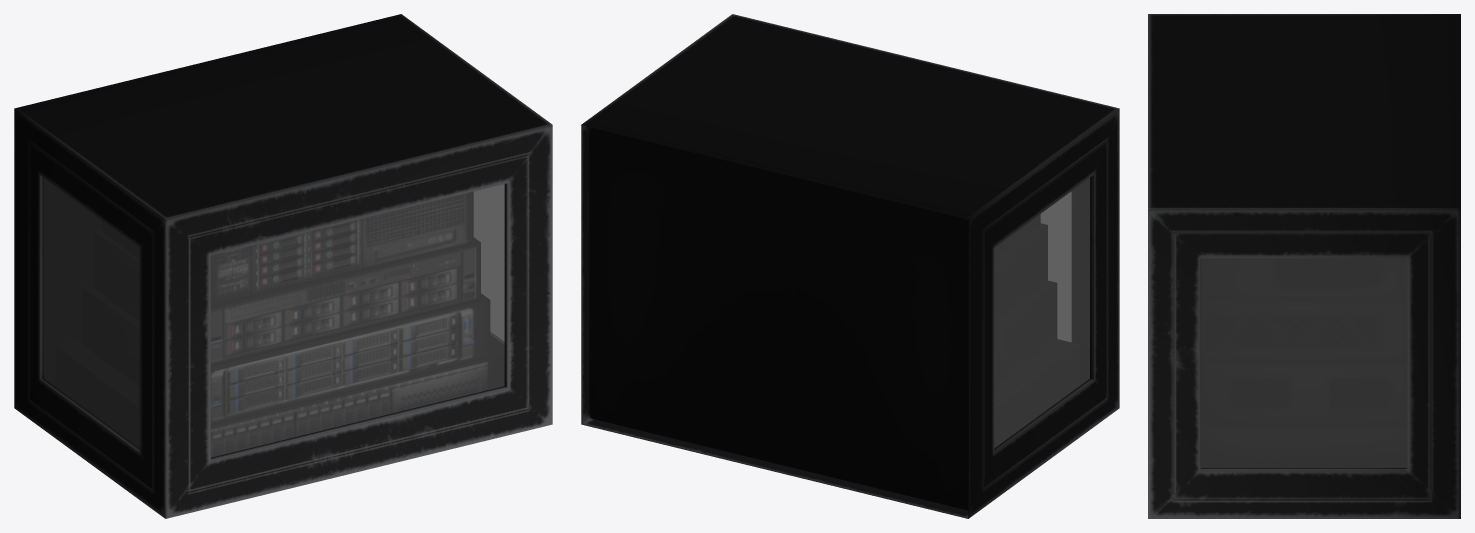
File: Server.fbx
3 views of the same model, side by side, from view 1: azimuth 30°, elevation 25°; view 2: azimuth 150°, elevation 25°; view 3: azimuth 270°, elevation 25° (orthographic). The views are drawn at different scales.
Visible parts, largest first — view 1: Server; view 2: Server; view 3: Server.
Part boxes in pixels (x1,y1,x2,y2): Server: (14,14,552,518); Server: (581,14,1119,518); Server: (1148,14,1460,518).
Size of the model in its own units: 57.23 by 42.32 by 38.74.
